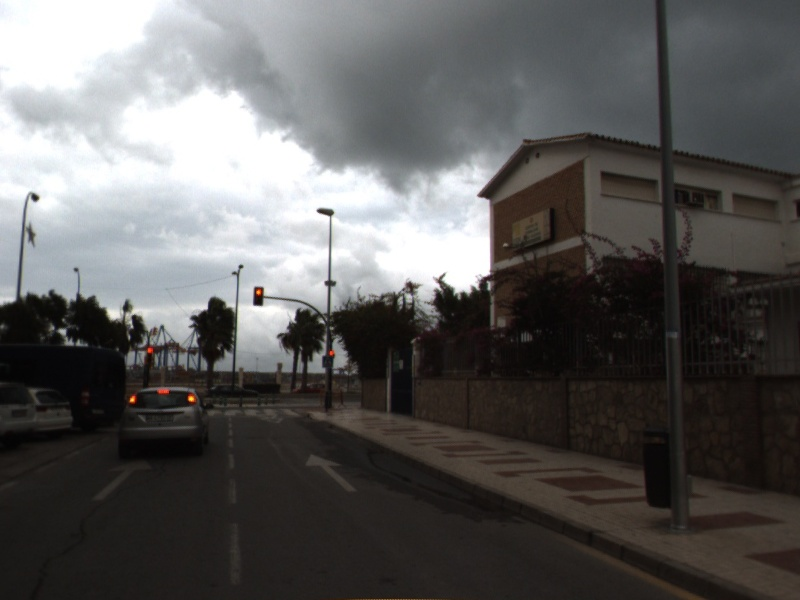STRAIGHT: (87, 454, 156, 504), (302, 450, 361, 494)
